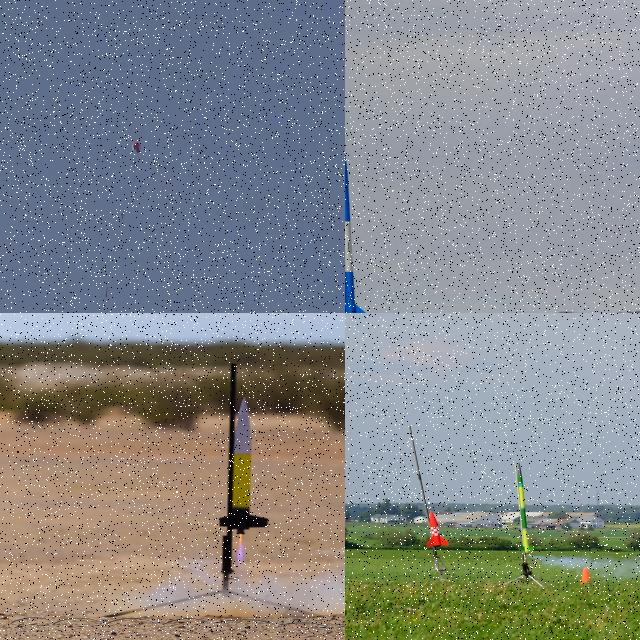Rocket: (220, 396, 268, 536), (345, 135, 373, 313), (517, 462, 535, 554), (426, 510, 450, 548), (105, 286, 108, 298)
